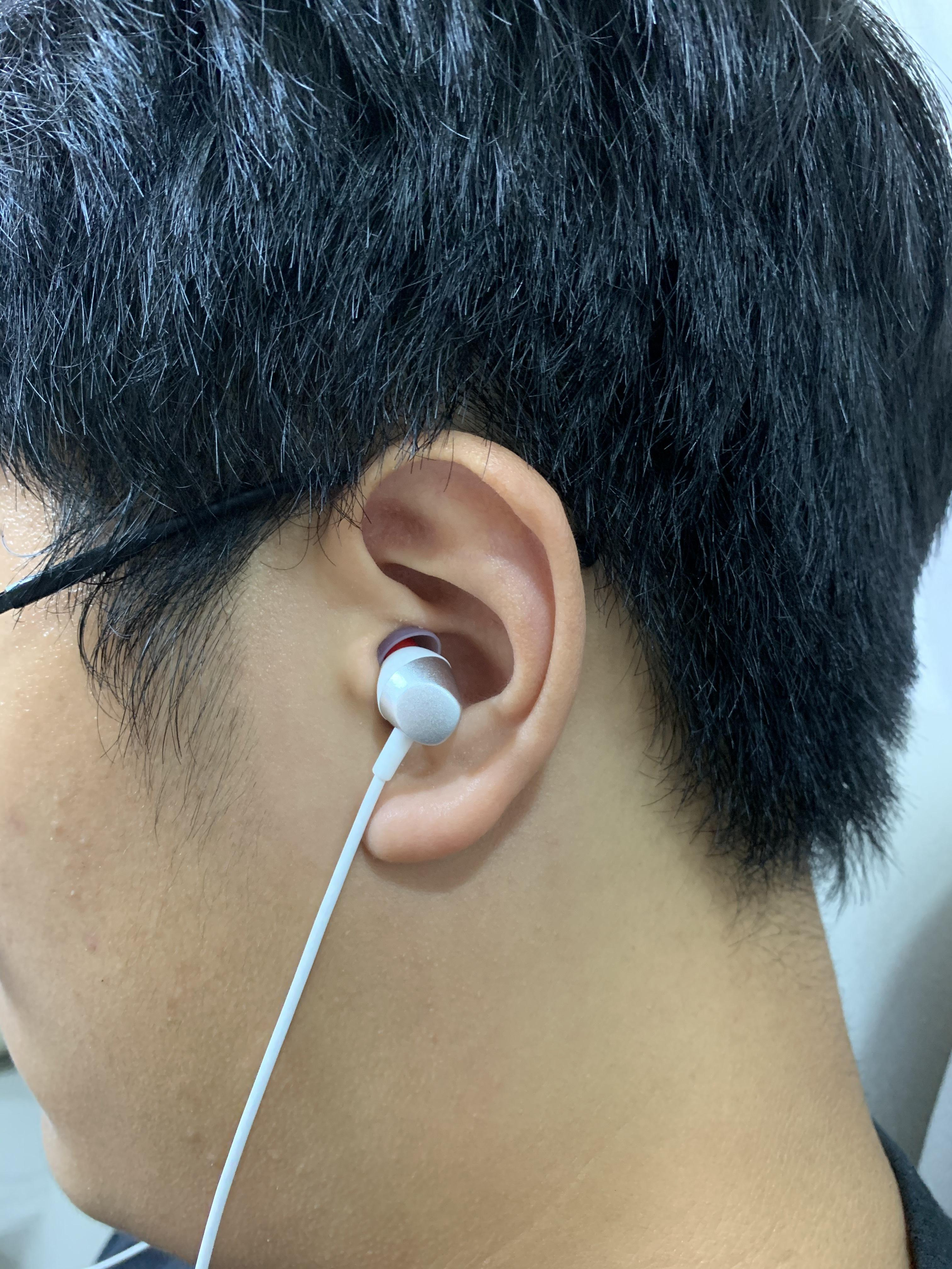earphone: (356, 636, 483, 772)
